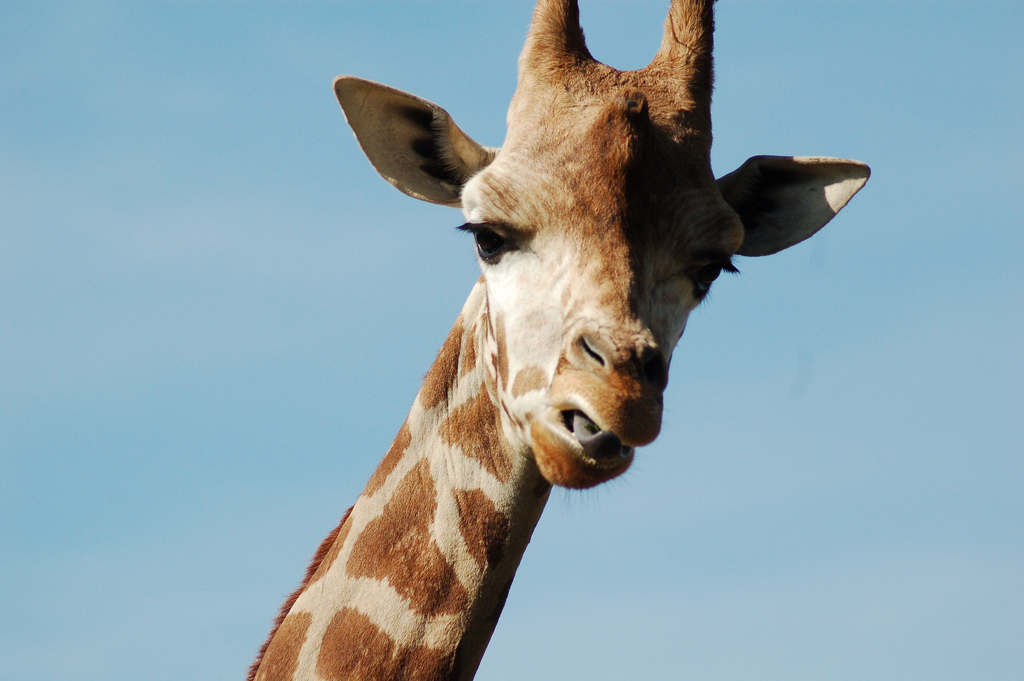giraffe: (271, 14, 862, 666)
